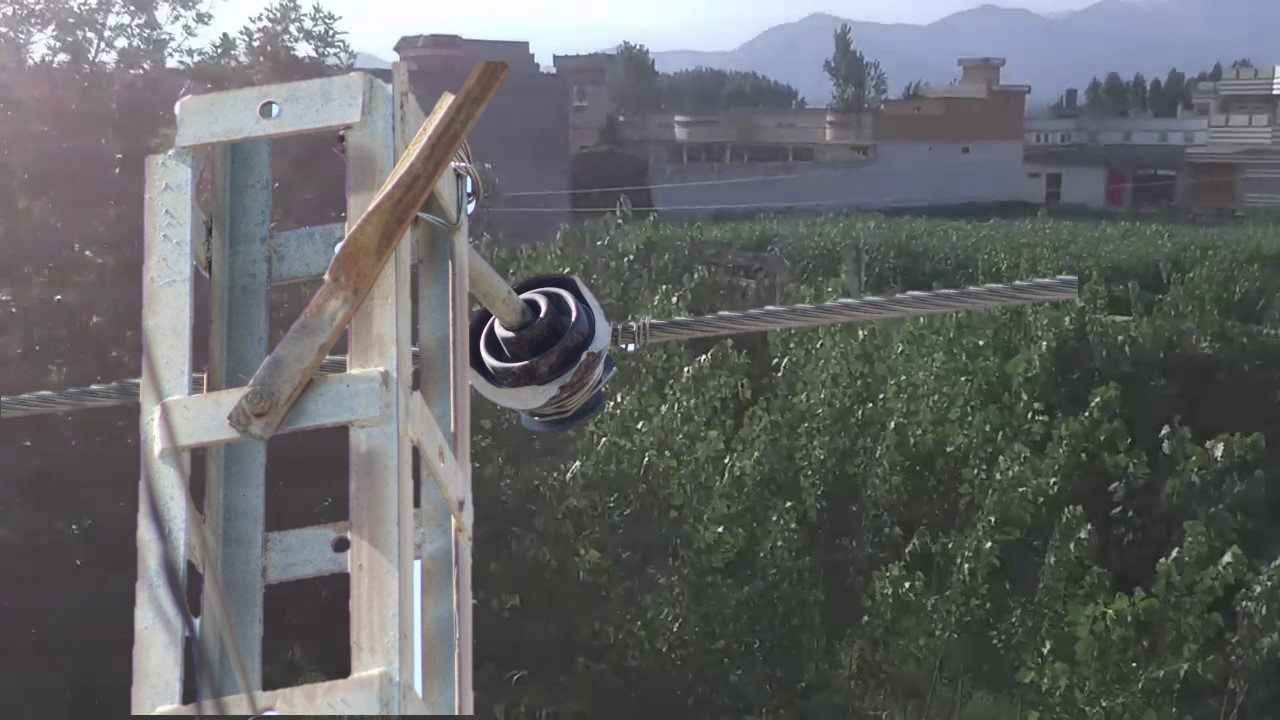defect_pin: (463, 268, 625, 437)
